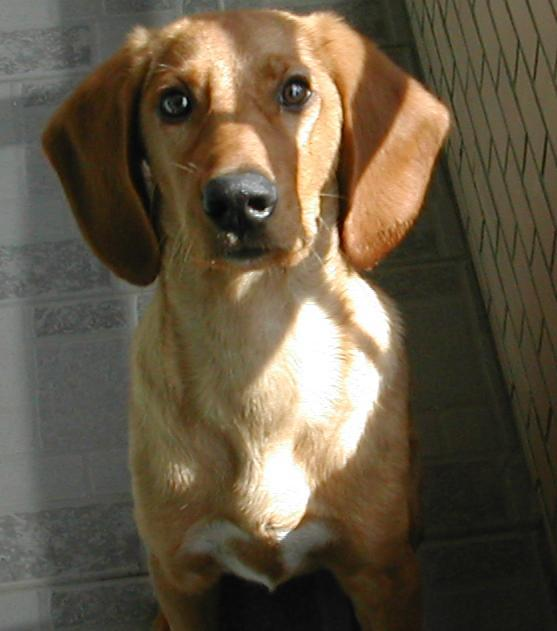dog: (40, 6, 460, 627)
